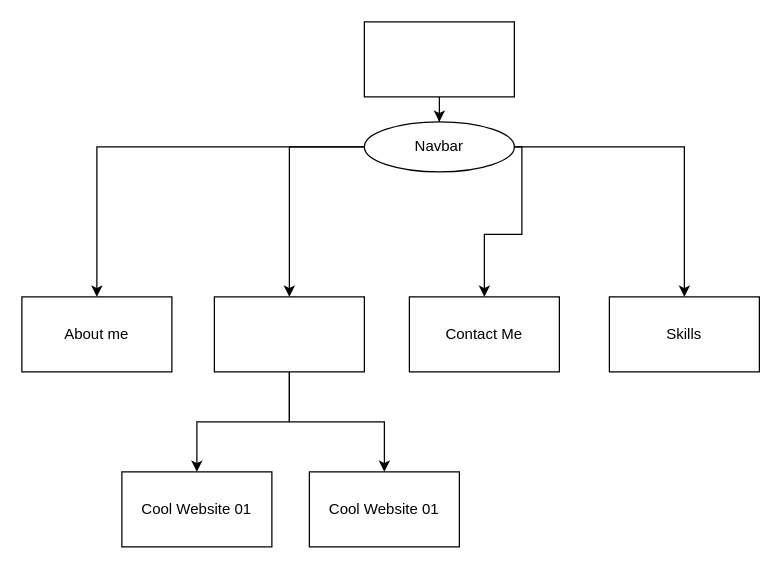
The diagram is 781 pixels wide and 569 high, and some of its shapes have lost their labels. The shapes that lost their labels are listed below. From the top down, each one's centre as x and y in pixels, then its label:
the point at 438,59: Home
the point at 288,334: Projects
